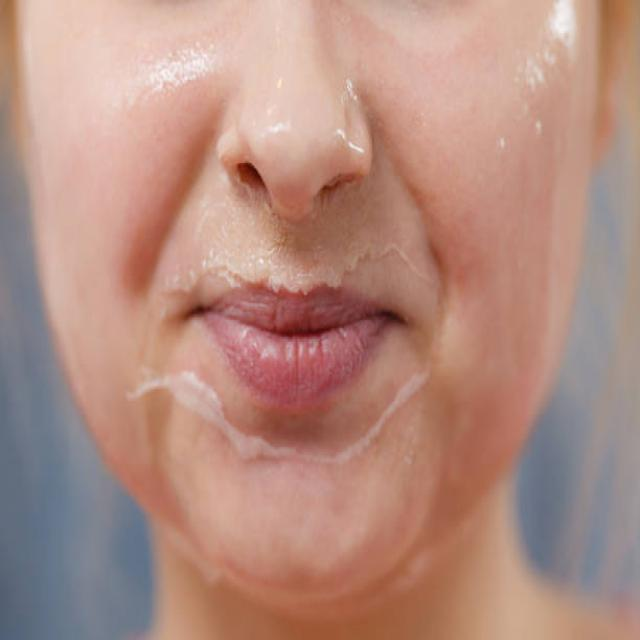Dry-Skin: (177, 23, 402, 204), (186, 200, 405, 342), (210, 235, 394, 358), (152, 331, 256, 546), (309, 424, 397, 520), (457, 77, 517, 216), (469, 307, 534, 427), (102, 78, 140, 280), (523, 73, 574, 145)
